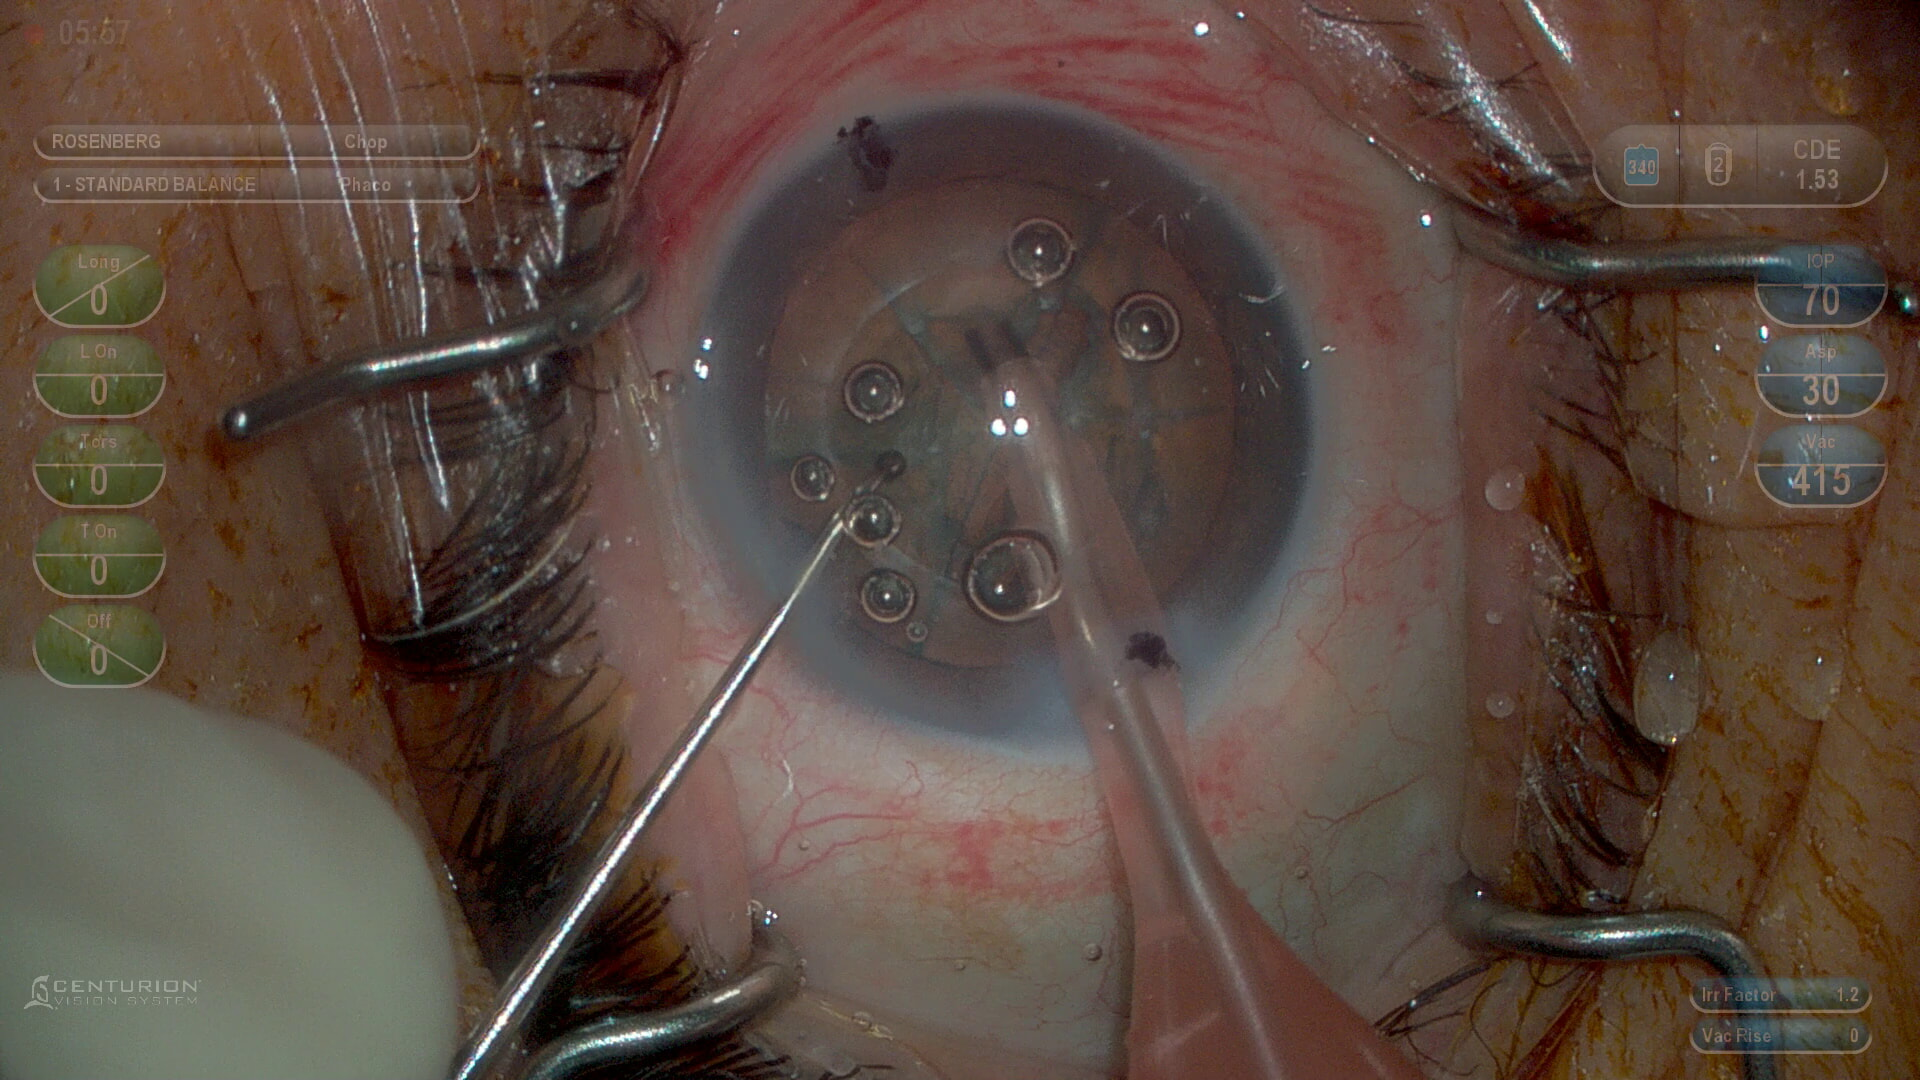iris: (689, 116, 1306, 733)
pupil: (759, 175, 1238, 665)
